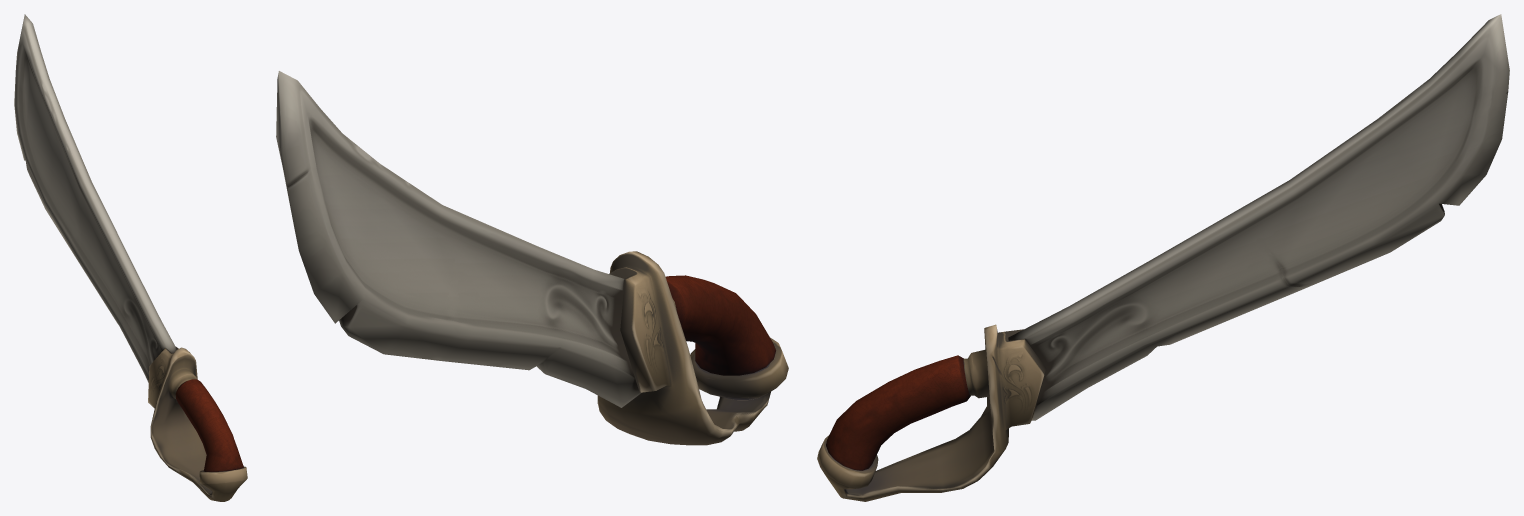
File: sword2.glb
3 views of the same model, side by side, from view 1: azimuth 30°, elevation 25°; view 2: azimuth 150°, elevation 25°; view 3: azimuth 270°, elevation 25° (orthographic). The views are drawn at different scales.
Parts seen in each view (by area): view 1: Secivo_low, Drska_low, Drska koza_low; view 2: Secivo_low, Drska_low, Drska koza_low; view 3: Secivo_low, Drska_low, Drska koza_low.
Part boxes in pixels (x1=…): Secivo_low: x1=14, y1=14, x2=176, y2=382; Drska_low: x1=148, y1=347, x2=247, y2=501; Drska koza_low: x1=175, y1=379, x2=243, y2=471; Secivo_low: x1=276, y1=71, x2=641, y2=407; Drska_low: x1=597, y1=251, x2=788, y2=445; Drska koza_low: x1=665, y1=275, x2=775, y2=375; Secivo_low: x1=1008, y1=14, x2=1509, y2=420; Drska_low: x1=817, y1=324, x2=1046, y2=501; Drska koza_low: x1=826, y1=355, x2=970, y2=470.
Bounding box in the file's own units: 4.12 × 23.31 × 29.27.
3 materials, 3 textured.
